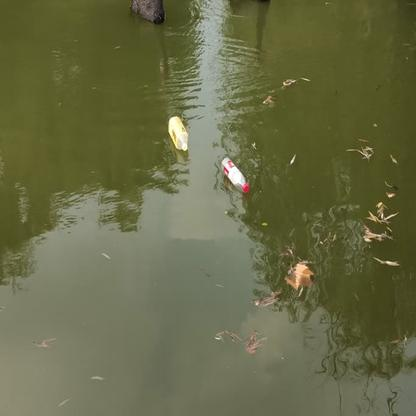plastic bottle: (220, 157, 249, 192), (168, 116, 190, 151)
